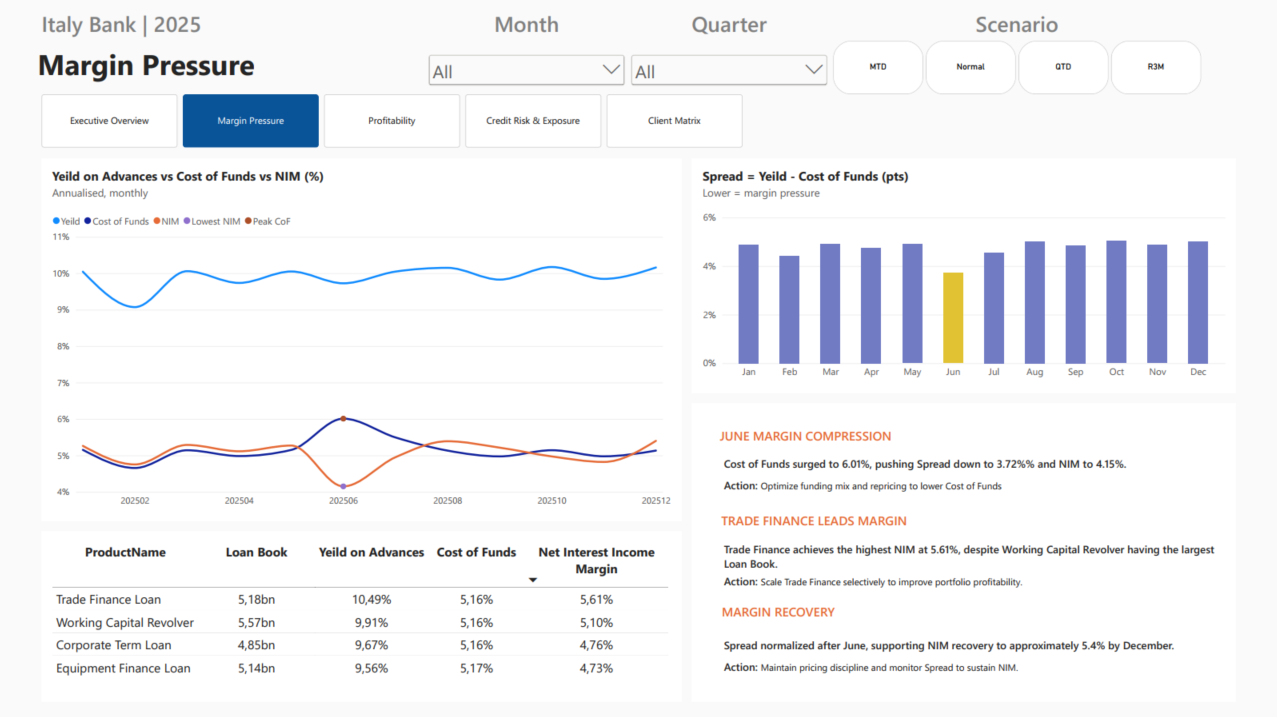

The dashboard page shown, as its layout file describes it:
{"tool":"powerbi","page":{"name":"Margin Pressure","canvas":[1920,1080],"ordinal":1},"visuals":[{"type":"textbox","box":[64,16,272,48],"z":0},{"type":"textbox","box":[57.6,68.8,432,64],"z":1000},{"type":"advancedSlicerVisual","fields":{"Values":["Calculation group.Time period"]},"box":[1232,64,592,80],"z":2000},{"type":"textbox","box":[1424,16,208,48],"z":3000},{"type":"shape","box":[64,240,960,544],"z":4000},{"type":"shape","box":[1040,240,816,352],"z":5000},{"type":"shape","box":[64,800,960,256],"z":6000},{"type":"shape","box":[1040,608,816,448],"z":7000},{"type":"slicer","fields":{"Values":["Dim_date.Quarter"]},"box":[944,80,304,64],"z":8000},{"type":"textbox","box":[992,16,208,48],"z":9000},{"type":"lineChart","title":"Yeild on Advances vs Cost of Funds vs NIM (%)","fields":{"Y":["Measure.Yeild on Advances","Measure.Cost of Funds","Measure.Net Interest Income Margin","Measure.NIM Min Marker 2","Measure.CoF Max Marker 2"],"Category":["Dim_date.YearMonth"]},"box":[64,240,960,544],"z":10000},{"type":"columnChart","title":"Spread = Yeild - Cost of Funds (pts)","fields":{"Category":["Dim_date.Month"],"Y":["Measure.Spread"]},"box":[1040,240,816,352],"z":11000},{"type":"tableEx","fields":{"Values":["Dim_Product.ProductName","Measure.Loan Book","Measure.Yeild on Advances","Measure.Cost of Funds","Measure.Net Interest Income Margin"]},"box":[64,800,960,256],"z":12000},{"type":"textbox","box":[1048.8,868,560,48],"z":13000},{"type":"textbox","box":[1082,643.6,400,48],"z":14000},{"type":"textbox","box":[1088,688,736,48],"z":15000},{"type":"textbox","box":[1084,770.8,400,48],"z":16000},{"type":"textbox","box":[1088,816,736,48],"z":17000},{"type":"textbox","box":[1085.2,907.6,400,48],"z":18000},{"type":"textbox","box":[1088,960,736,48],"z":19000},{"type":"textbox","box":[1088,720,736,48],"z":20000},{"type":"textbox","box":[1088,864,736,48],"z":21000},{"type":"textbox","box":[1088,992,736,48],"z":22000},{"type":"slicer","fields":{"Values":["Dim_date.Month"]},"box":[640,80,304,64],"z":23000},{"type":"textbox","box":[688,16,208,48],"z":24000},{"type":"pageNavigator","box":[64,144,1056,80],"z":25000}]}

Visuals, with their boxes in screenshot pixels (x1, y1, x2, y2), scaled from the page's 1920x1080 canvas onto the 1277x717 screenshot:
textbox: [x1=43, y1=11, x2=223, y2=42]
textbox: [x1=38, y1=46, x2=326, y2=88]
advancedSlicerVisual - Calculation group.Time period: [x1=819, y1=42, x2=1213, y2=96]
textbox: [x1=947, y1=11, x2=1085, y2=42]
shape: [x1=43, y1=159, x2=681, y2=520]
shape: [x1=692, y1=159, x2=1234, y2=393]
shape: [x1=43, y1=531, x2=681, y2=701]
shape: [x1=692, y1=404, x2=1234, y2=701]
slicer - Dim_date.Quarter: [x1=628, y1=53, x2=830, y2=96]
textbox: [x1=660, y1=11, x2=798, y2=42]
"Yeild on Advances vs Cost of Funds vs NIM (%)" lineChart: [x1=43, y1=159, x2=681, y2=520]
"Spread = Yeild - Cost of Funds (pts)" columnChart: [x1=692, y1=159, x2=1234, y2=393]
tableEx - Dim_Product.ProductName x Measure.Loan Book: [x1=43, y1=531, x2=681, y2=701]
textbox: [x1=698, y1=576, x2=1070, y2=608]
textbox: [x1=720, y1=427, x2=986, y2=459]
textbox: [x1=724, y1=457, x2=1213, y2=489]
textbox: [x1=721, y1=512, x2=987, y2=544]
textbox: [x1=724, y1=542, x2=1213, y2=574]
textbox: [x1=722, y1=603, x2=988, y2=634]
textbox: [x1=724, y1=637, x2=1213, y2=669]
textbox: [x1=724, y1=478, x2=1213, y2=510]
textbox: [x1=724, y1=574, x2=1213, y2=605]
textbox: [x1=724, y1=659, x2=1213, y2=690]
slicer - Dim_date.Month: [x1=426, y1=53, x2=628, y2=96]
textbox: [x1=458, y1=11, x2=596, y2=42]
pageNavigator: [x1=43, y1=96, x2=745, y2=149]
